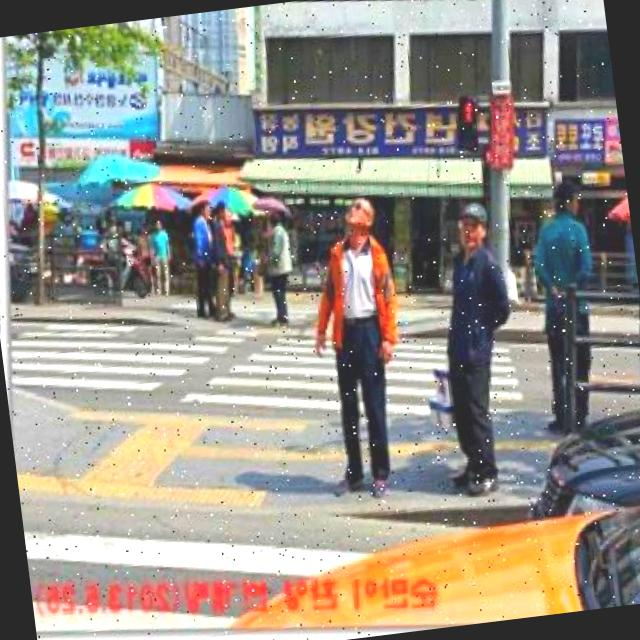Person: (279, 188, 430, 509), (415, 194, 540, 501), (510, 173, 621, 439), (252, 204, 306, 332), (202, 200, 252, 324), (181, 199, 229, 322), (143, 214, 180, 298)
